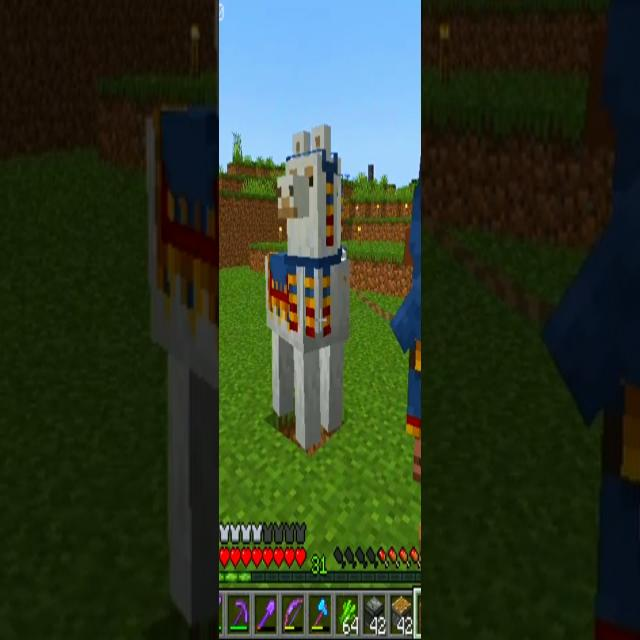Trader Lama: (264, 121, 352, 454)
